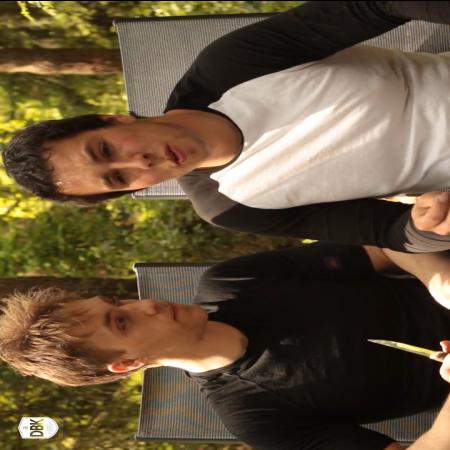long weapon: (355, 330, 449, 378)
